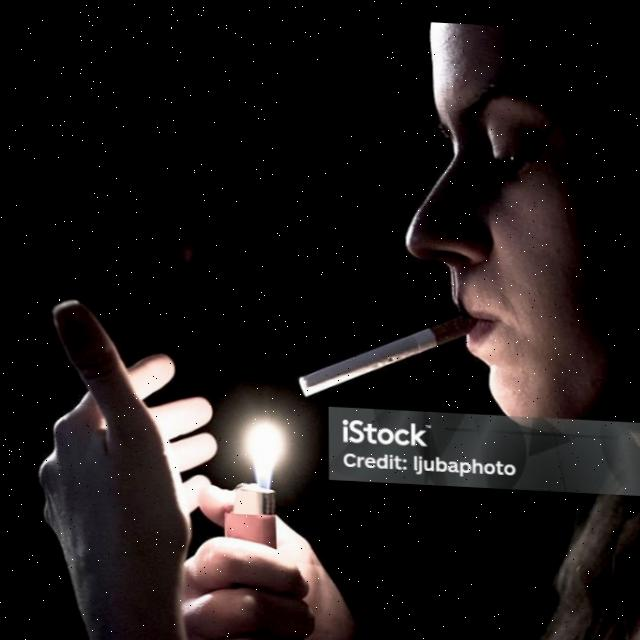cigarette: (298, 303, 478, 400)
